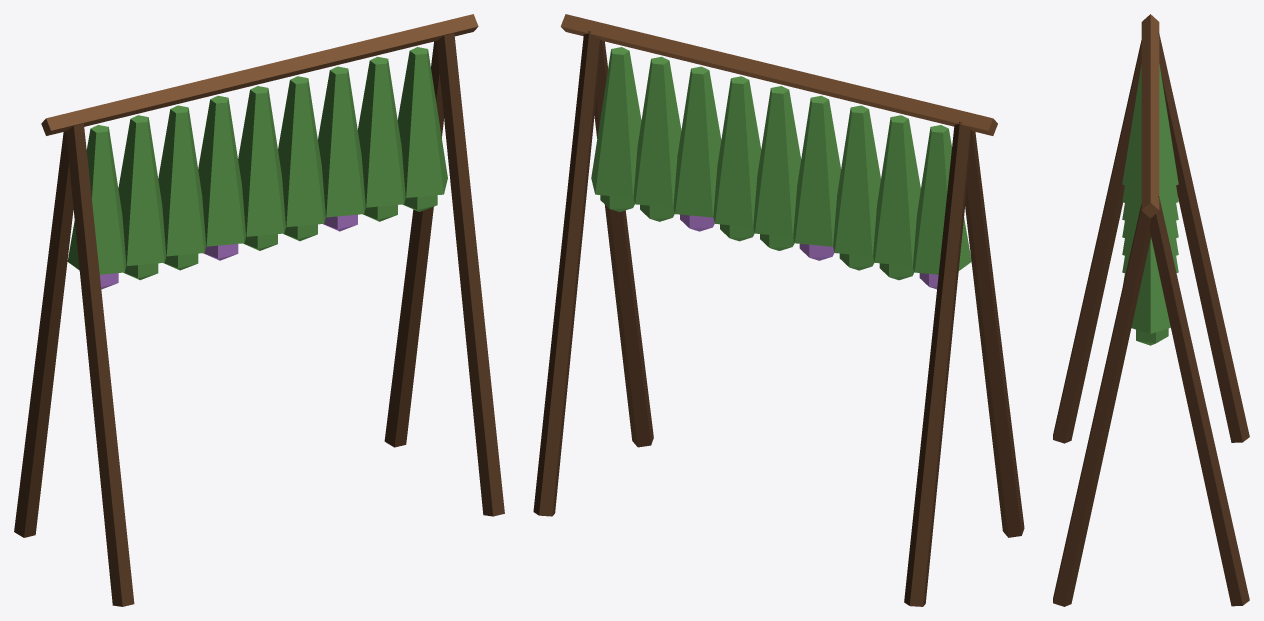
The model's file is pile_herbs_3.glb.
3 views of the same model, side by side, from view 1: azimuth 30°, elevation 25°; view 2: azimuth 150°, elevation 25°; view 3: azimuth 270°, elevation 25° (orthographic). The views are drawn at different scales.
Visible parts, largest first — view 1: pile_herbs_3; view 2: pile_herbs_3; view 3: pile_herbs_3.
Part boxes in pixels (<box>): pile_herbs_3: <box>14,14,504,606</box>; pile_herbs_3: <box>533,14,1024,606</box>; pile_herbs_3: <box>1053,14,1249,606</box>.
Bounding box in the file's own units: 1.5 × 1.54 × 0.6621.
